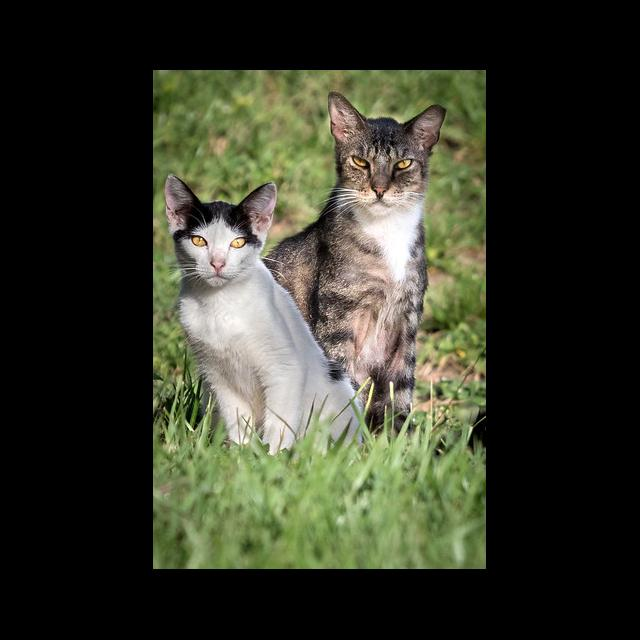animals: (261, 91, 448, 445), (166, 176, 363, 464)
